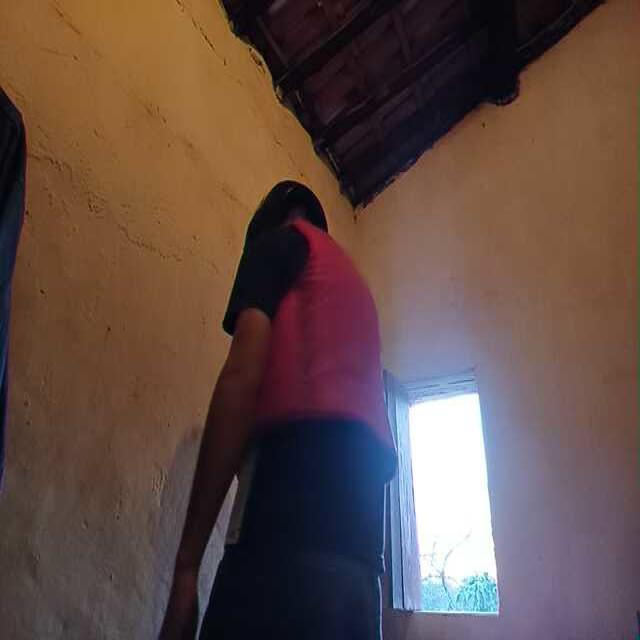capacete: (249, 177, 340, 252)
colete: (247, 228, 401, 482)
pessoa: (216, 219, 394, 629)
